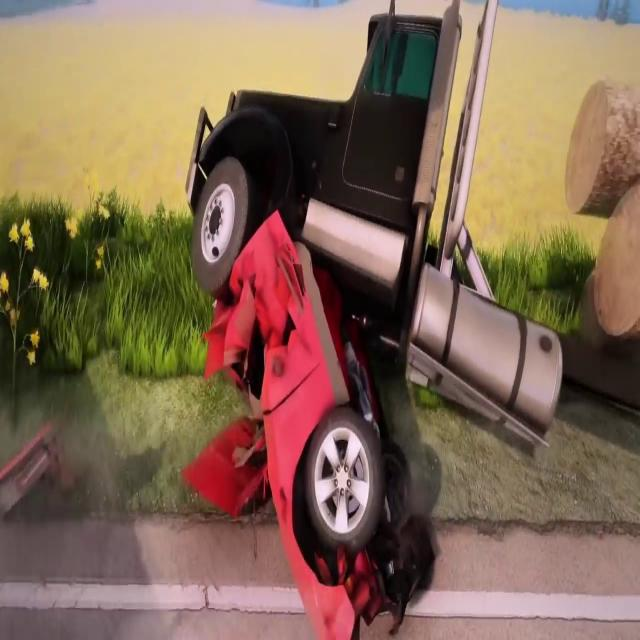accident: (154, 4, 568, 638)
